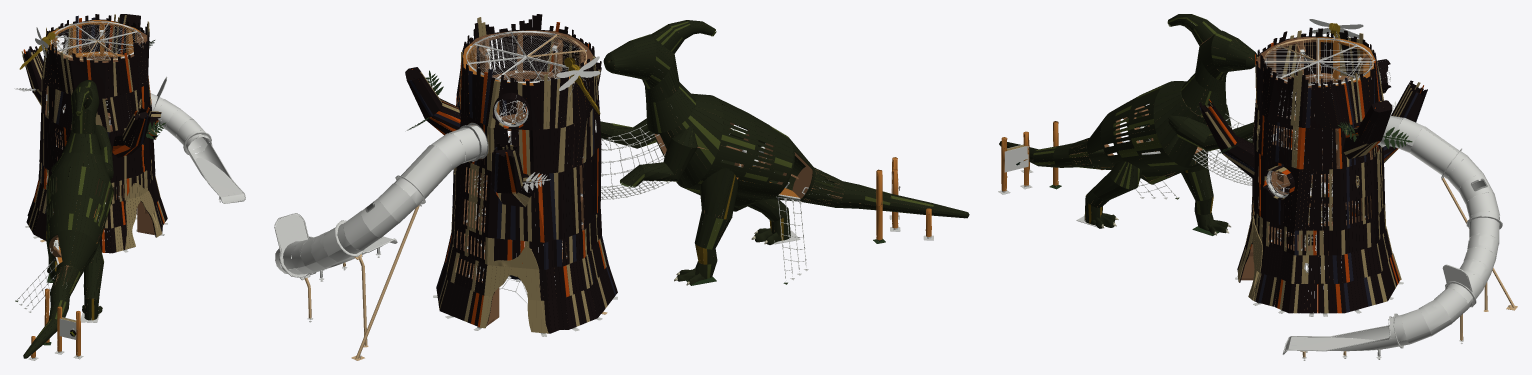
The model's file is rgss-1001-jura.glb.
3 renders of one model, left to right at view 1: azimuth 30°, elevation 25°; view 2: azimuth 150°, elevation 25°; view 3: azimuth 270°, elevation 25°, orthographic. The views are drawn at different scales.
Visible parts, largest first — view 1: Mesh_0_1, Mesh_0; view 2: Mesh_0_1, Mesh_0; view 3: Mesh_0_1, Mesh_0.
Part boxes in pixels (x1,y1,x2,y2): Mesh_0_1: (15, 14, 234, 358); Mesh_0: (14, 21, 245, 360); Mesh_0_1: (304, 14, 969, 360); Mesh_0: (274, 30, 933, 358); Mesh_0_1: (999, 14, 1517, 357); Mesh_0: (998, 19, 1502, 360).
Size of the model in its own units: 12.72 by 6.89 by 13.58.
Materials: 3 (3 with a texture image).
